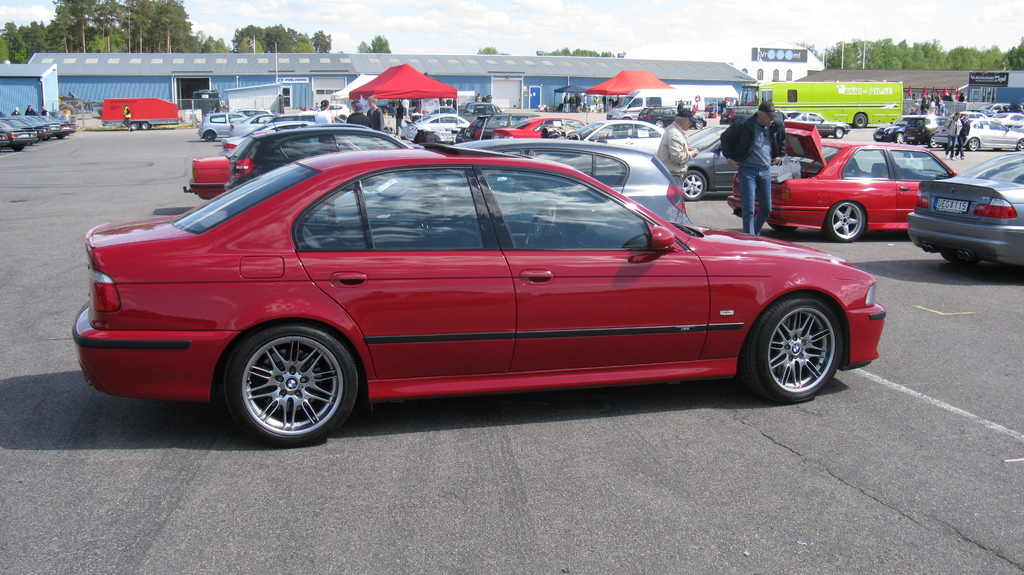Wheel: (214, 318, 351, 429), (741, 294, 845, 404), (821, 201, 867, 243), (525, 201, 555, 247), (682, 168, 705, 202), (942, 251, 980, 267), (852, 112, 866, 128), (966, 137, 980, 149), (204, 130, 216, 141), (929, 136, 940, 148), (893, 132, 904, 143), (1016, 137, 1023, 150), (130, 122, 139, 132), (694, 119, 703, 129), (12, 143, 24, 150), (835, 128, 844, 137), (139, 122, 149, 130), (655, 119, 664, 127), (56, 134, 63, 141), (623, 116, 631, 120)
